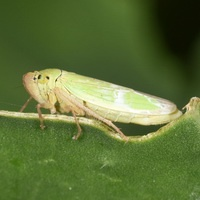insect: (23, 69, 181, 132)
